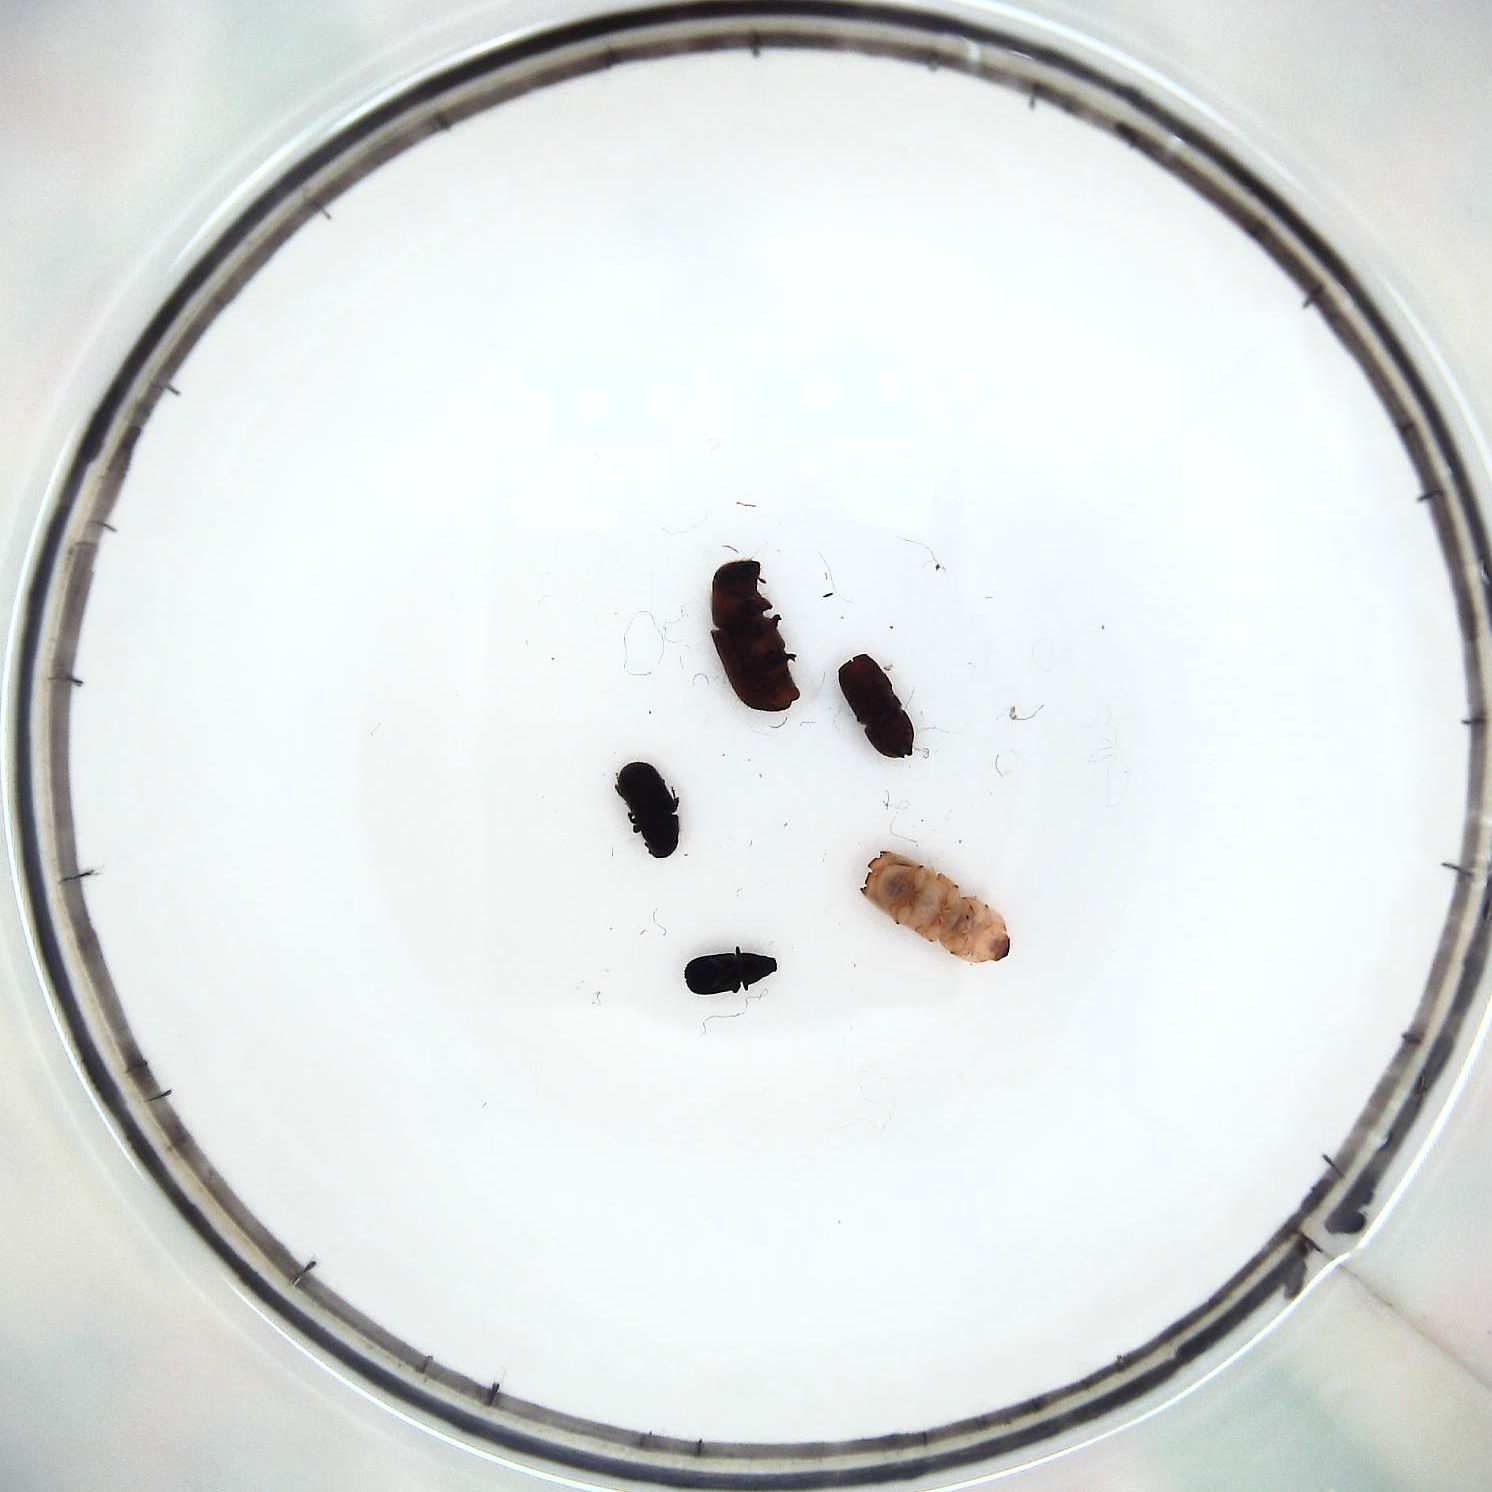Boerner: (855, 848, 1021, 976)
Leconte: (709, 557, 803, 716)
Linnaeus: (833, 650, 918, 757)
armandi: (612, 758, 680, 859)
coleoptera: (680, 948, 780, 995)
